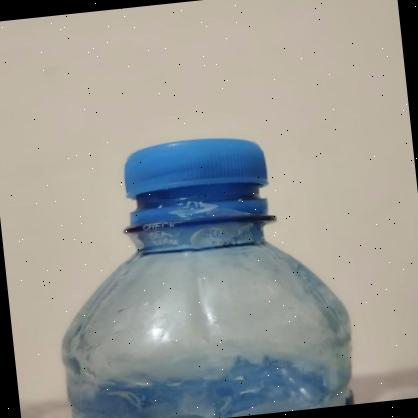bottle: (34, 115, 351, 418)
cap: (104, 126, 289, 253)
